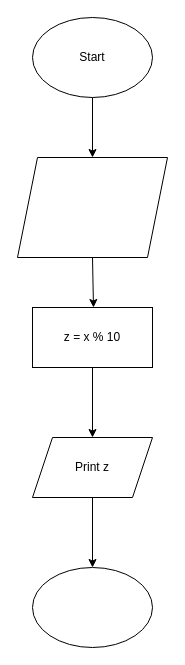
This 185x665 diagram has some shape labels left out. Here are the shapes that lost their labels. From the top down, the centre of each, then its label:
At (92,207): "Get number imput and place in x".
At (92,607): "End".
